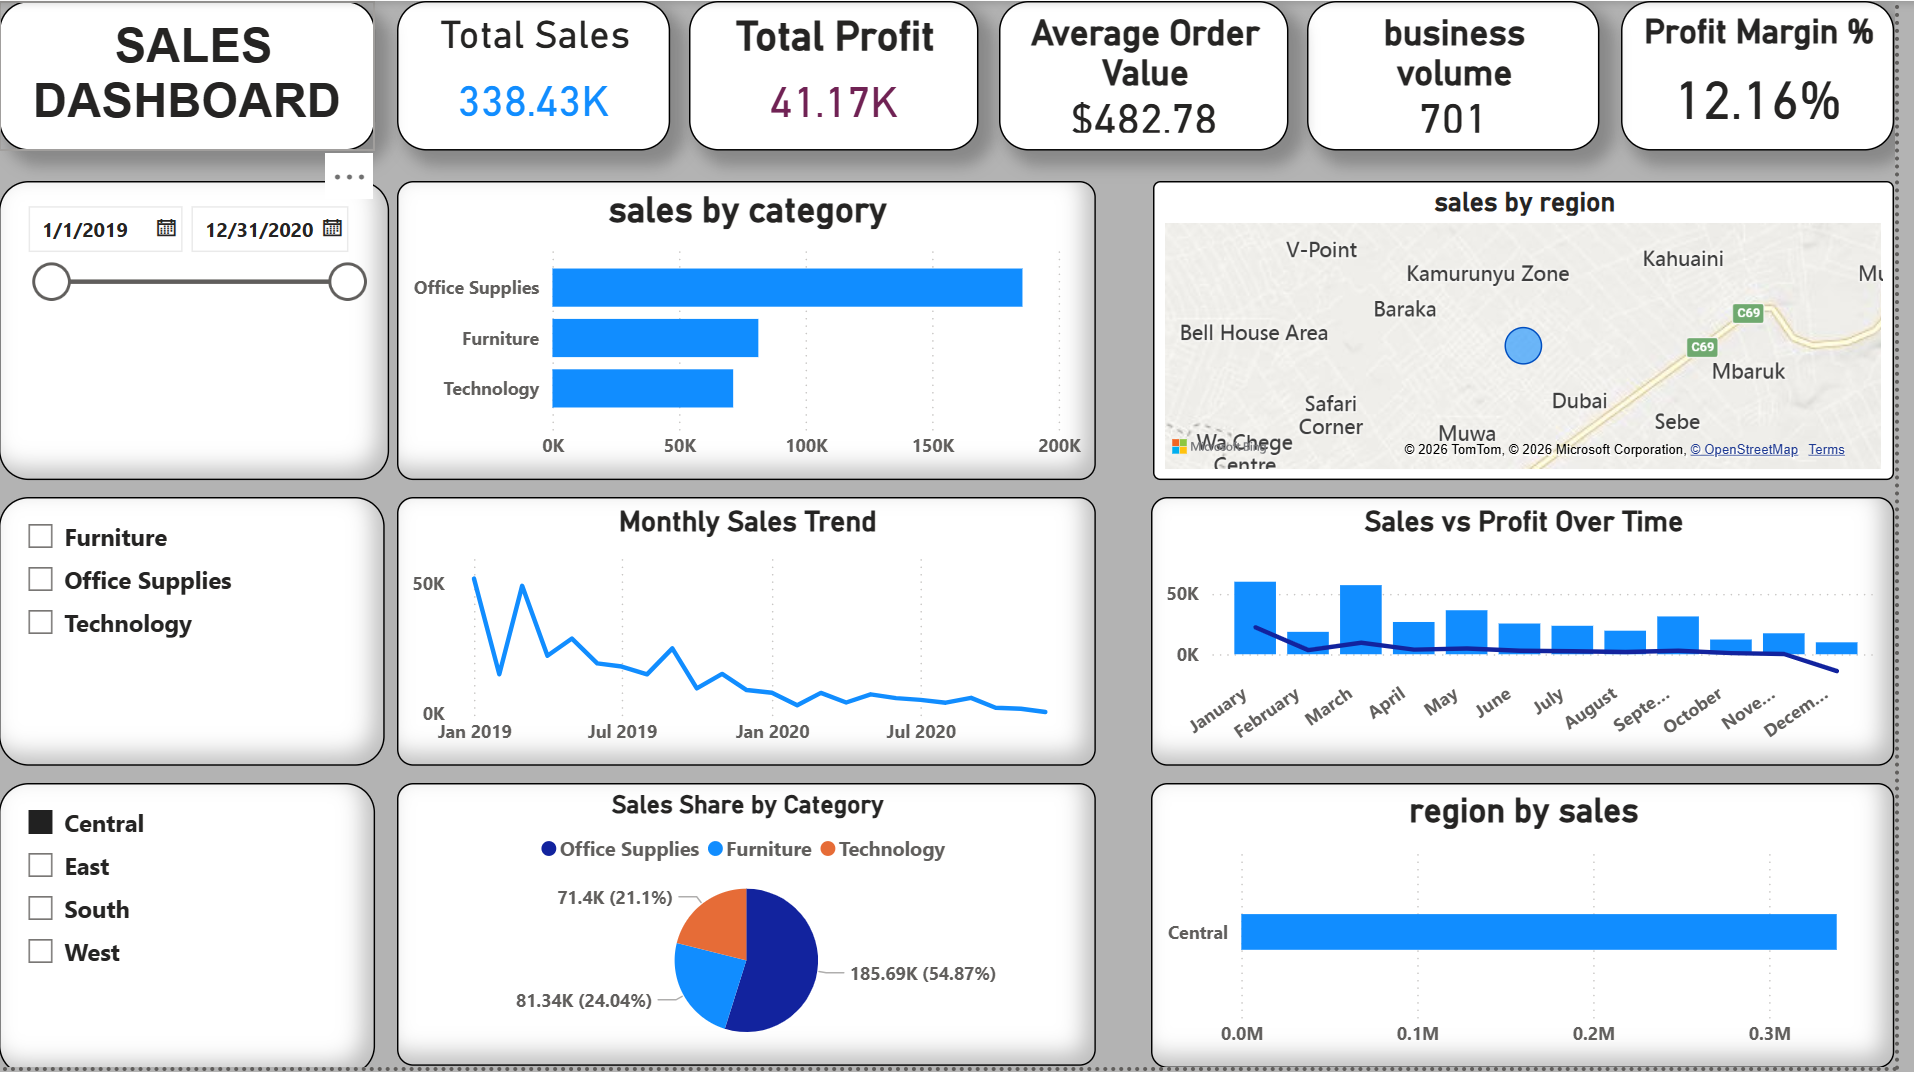

This screenshot's page, from the dashboard's own definition file:
{"tool":"powerbi","page":{"name":"Page 1","canvas":[1280,720],"ordinal":0},"visuals":[{"type":"card","title":"Total Sales","fields":{"Values":["superstore_sales_powerbi.Total Sales"]},"box":[268.3,0,184.7,101],"z":0},{"type":"card","title":"Total Profit","fields":{"Values":["superstore_sales_powerbi.Total Profit"]},"box":[465.6,0,195.7,101],"z":1000},{"type":"clusteredBarChart","title":"sales by category","fields":{"Category":["superstore_sales_powerbi.category"],"Y":["Sum(superstore_sales_powerbi.sales)"]},"box":[268.3,121.5,471.9,202],"z":2000},{"type":"barChart","title":"region by sales","fields":{"Category":["superstore_sales_powerbi.region"],"Y":["Sum(superstore_sales_powerbi.sales)"]},"box":[778.1,528.7,501.9,192.6],"z":3000},{"type":"lineChart","title":"Monthly Sales Trend","fields":{"Category":["superstore_sales_powerbi.order_date.Variation.Date Hierarchy.Year","superstore_sales_powerbi.order_date.Variation.Date Hierarchy.Month"],"Y":["Sum(superstore_sales_powerbi.sales)"]},"box":[268.3,334.6,471.9,181.5],"z":4000},{"type":"map","title":" sales by region","fields":{"Category":["superstore_sales_powerbi.region"],"Size":["Sum(superstore_sales_powerbi.sales)"]},"box":[779.7,121.5,500.3,202],"z":5000},{"type":"card","title":"Profit Margin %","fields":{"Values":["superstore_sales_powerbi.Profit Margin (%)"]},"box":[1095.3,0,184.7,101],"z":6000},{"type":"card","title":"business volume","fields":{"Values":["superstore_sales_powerbi.Total Orders"]},"box":[883.8,0,197.3,101],"z":7000},{"type":"card","title":"Average Order Value","fields":{"Values":["superstore_sales_powerbi.Average Order Value"]},"box":[675.5,0,195.7,101],"z":8000},{"type":"slicer","fields":{"Values":["superstore_sales_powerbi.region"]},"box":[0,528.7,254.1,197.3],"z":9000},{"type":"slicer","fields":{"Values":["superstore_sales_powerbi.category"]},"box":[0,334.6,260.4,181.5],"z":10000},{"type":"slicer","fields":{"Values":["superstore_sales_powerbi.order_date"]},"box":[0,121.5,263.6,202],"z":11000},{"type":"lineStackedColumnComboChart","title":"Sales vs Profit Over Time","fields":{"Y":["Sum(superstore_sales_powerbi.sales)"],"Y2":["superstore_sales_powerbi.Total Profit"],"Category":["superstore_sales_powerbi.order_date.Variation.Date Hierarchy.Month"]},"box":[778.1,334.6,501.9,181.5],"z":12000},{"type":"textbox","box":[0,0,254.1,101],"z":13000},{"type":"pieChart","title":"Sales Share by Category","fields":{"Category":["superstore_sales_powerbi.category"],"Y":["superstore_sales_powerbi.Total Sales"]},"box":[268.3,528.7,471.9,191],"z":14000}]}

Visuals, with their boxes in screenshot pixels (x1, y1, x2, y2), scaled from the page's 1280x720 canvas onto the 1914x1072 screenshot:
"Total Sales" card: bbox(401, 0, 677, 150)
"Total Profit" card: bbox(696, 0, 989, 150)
"sales by category" clusteredBarChart: bbox(401, 181, 1107, 482)
"region by sales" barChart: bbox(1164, 787, 1913, 1071)
"Monthly Sales Trend" lineChart: bbox(401, 498, 1107, 768)
" sales by region" map: bbox(1166, 181, 1913, 482)
"Profit Margin %" card: bbox(1638, 0, 1913, 150)
"business volume" card: bbox(1322, 0, 1617, 150)
"Average Order Value" card: bbox(1010, 0, 1303, 150)
slicer - superstore_sales_powerbi.region: bbox(0, 787, 380, 1071)
slicer - superstore_sales_powerbi.category: bbox(0, 498, 389, 768)
slicer - superstore_sales_powerbi.order_date: bbox(0, 181, 394, 482)
"Sales vs Profit Over Time" lineStackedColumnComboChart: bbox(1164, 498, 1913, 768)
textbox: bbox(0, 0, 380, 150)
"Sales Share by Category" pieChart: bbox(401, 787, 1107, 1071)
